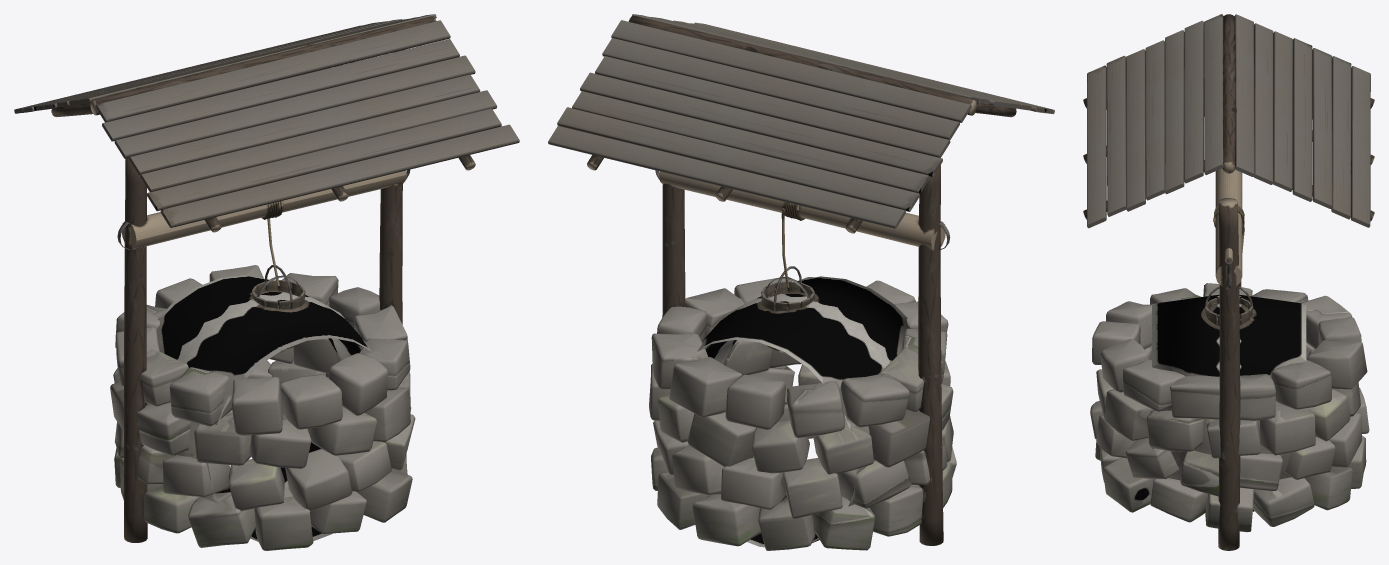
File: SM_Camp_Well.fbx
3 views of the same model, side by side, from view 1: azimuth 30°, elevation 25°; view 2: azimuth 150°, elevation 25°; view 3: azimuth 270°, elevation 25° (orthographic). The views are drawn at different scales.
Visible parts, largest first — view 1: SM_Camp_Well; view 2: SM_Camp_Well; view 3: SM_Camp_Well.
Part boxes in pixels (x1,y1,x2,y2): SM_Camp_Well: (14, 14, 519, 550); SM_Camp_Well: (548, 14, 1054, 550); SM_Camp_Well: (1083, 14, 1374, 550).
Bounding box in the file's own units: 212 × 162 × 257.
